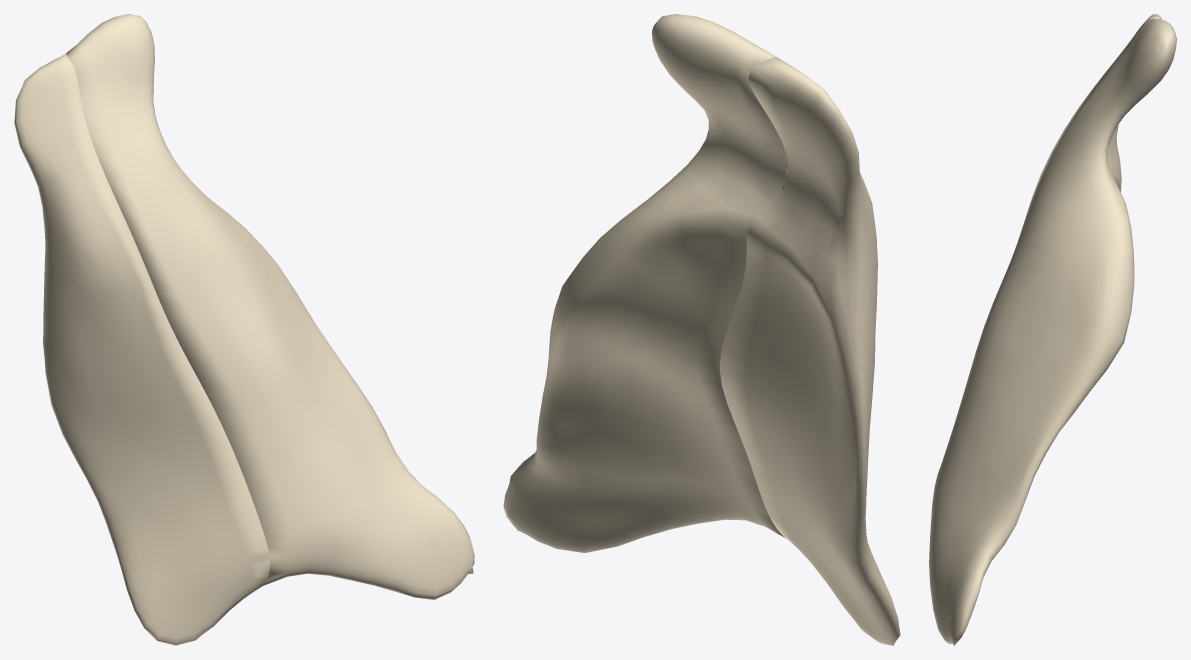
The model's file is thymus.glb.
The picture shows the model from 3 angles, left to right: view 1: azimuth 30°, elevation 25°; view 2: azimuth 150°, elevation 25°; view 3: azimuth 270°, elevation 25°; orthographic projection. The views are drawn at different scales.
Parts seen in each view (by area): view 1: VH_F_thymus_lobe_L; view 2: VH_F_thymus_lobe_L; view 3: VH_F_thymus_lobe_L.
Boxes of the visible parts, x1,y1,x2,y2 form: VH_F_thymus_lobe_L: (14, 14, 474, 645); VH_F_thymus_lobe_L: (503, 14, 900, 645); VH_F_thymus_lobe_L: (929, 14, 1176, 645).
Size of the model in its own units: 0.086 by 0.1236 by 0.0538.
